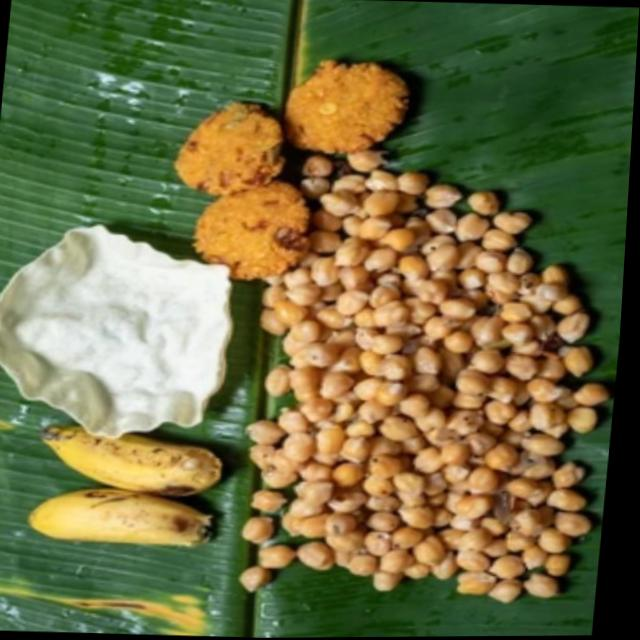PAPADAM: (0, 229, 221, 428)
SUNDAL: (239, 147, 608, 603)
SWEET: (45, 432, 221, 492), (29, 489, 209, 540)
VADA: (176, 61, 411, 284)
